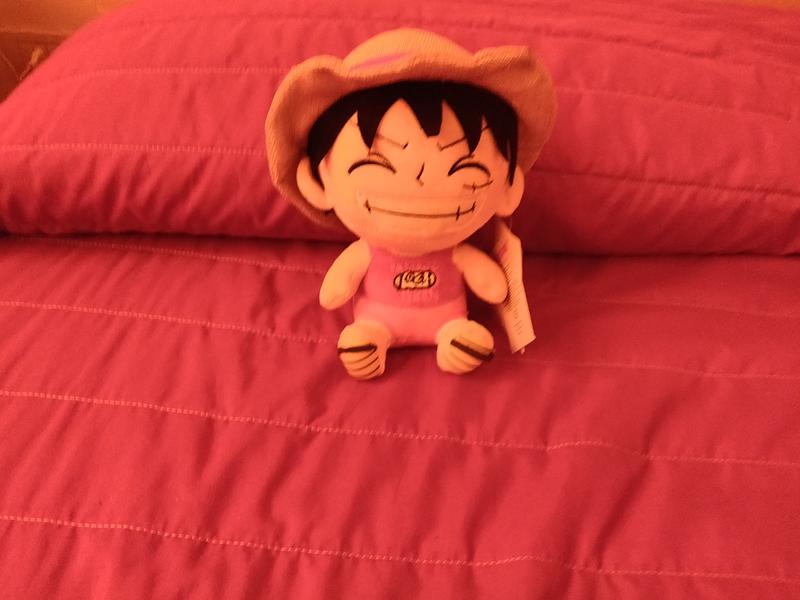rufy: (260, 16, 563, 379)
